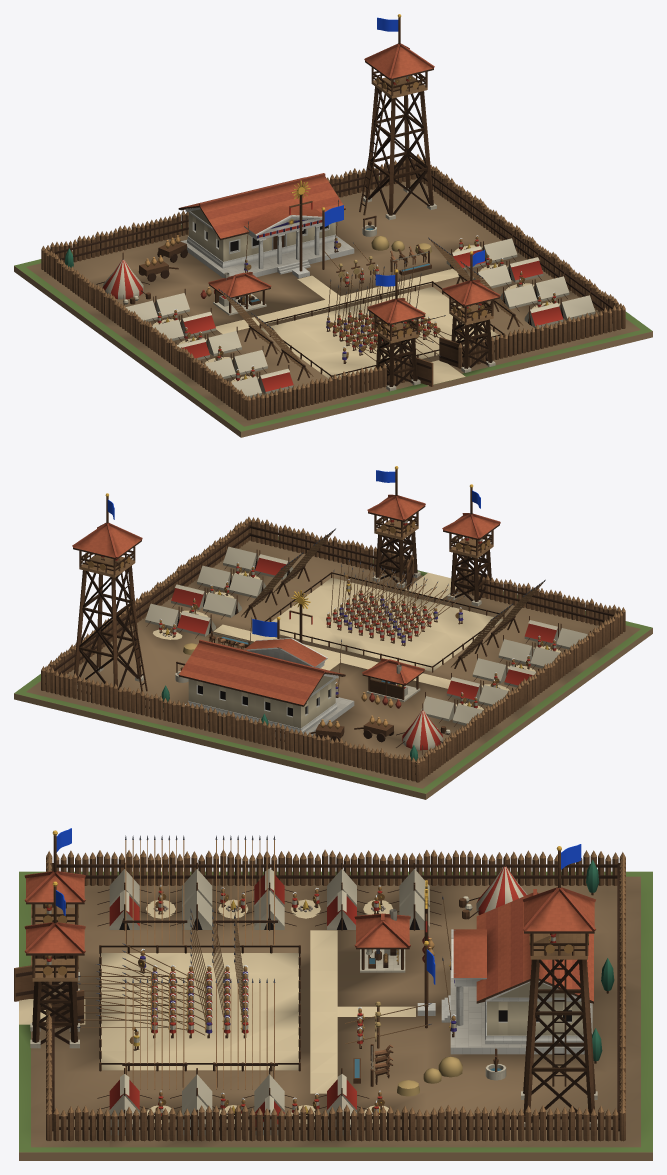
The model's file is lm_falanks.glb.
The picture shows the model from 3 angles, top to bottom: view 1: azimuth 30°, elevation 25°; view 2: azimuth 150°, elevation 25°; view 3: azimuth 270°, elevation 25°; orthographic projection. The views are drawn at different scales.
Parts seen in each view (by area): view 1: lm_falanks; view 2: lm_falanks; view 3: lm_falanks.
Part boxes in pixels (left/top/right/bottom): lm_falanks: left=14, top=14, right=652, bottom=437; lm_falanks: left=14, top=466, right=652, bottom=799; lm_falanks: left=14, top=828, right=652, bottom=1160.
Size of the model in its own units: 2.2 by 1 by 2.12.
Materials: 1 (1 with a texture image).
